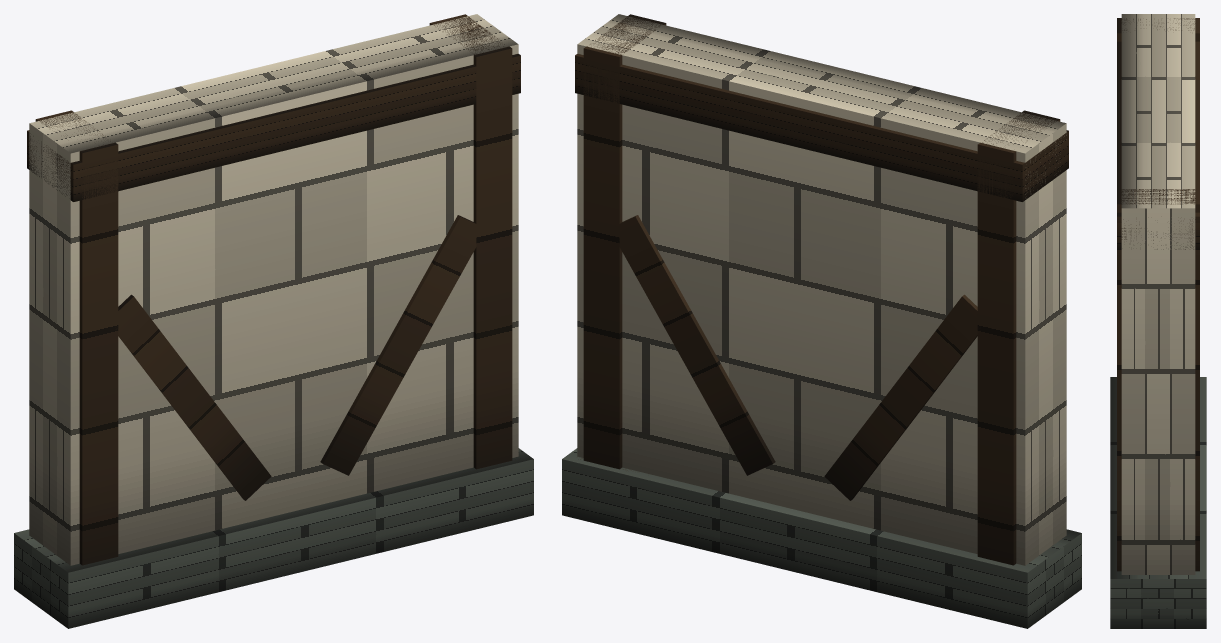
File: wall_plaster.gltf
3 views of the same model, side by side, from view 1: azimuth 30°, elevation 25°; view 2: azimuth 150°, elevation 25°; view 3: azimuth 270°, elevation 25° (orthographic). The views are drawn at different scales.
Parts seen in each view (by area): view 1: wall_plaster; view 2: wall_plaster; view 3: wall_plaster.
Boxes of the visible parts, x1=… form: wall_plaster: x1=14, y1=14, x2=533, y2=628; wall_plaster: x1=562, y1=14, x2=1081, y2=628; wall_plaster: x1=1110, y1=14, x2=1206, y2=628.
Bounding box in the file's own units: 1.04 × 1 × 0.21.
Materials: 1 (1 with a texture image).
